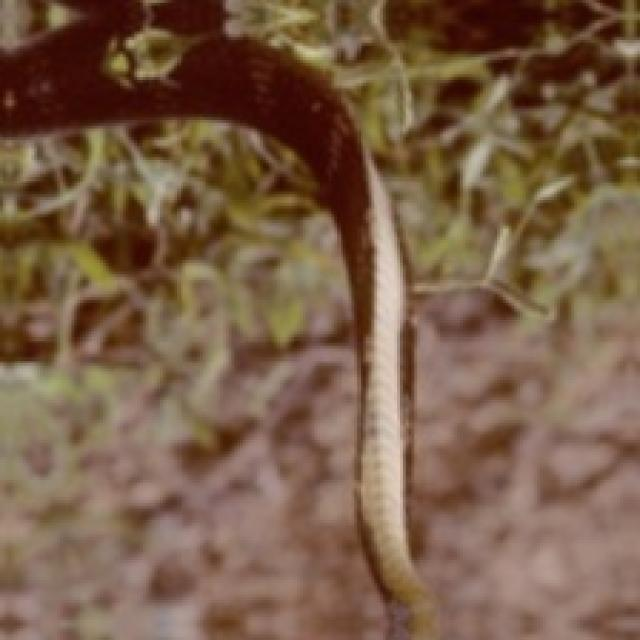king cobra: (0, 0, 434, 637)
